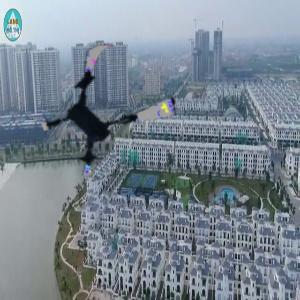drone: (42, 44, 176, 178)
